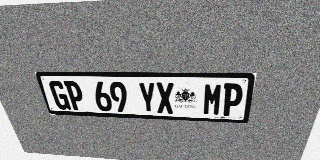6: (91, 81, 113, 111)
9: (108, 81, 129, 112)
G: (48, 81, 71, 110)
M: (202, 83, 224, 116)
P: (221, 83, 244, 116), (63, 81, 86, 110)
X: (155, 82, 174, 114)
Y: (137, 82, 157, 113)
